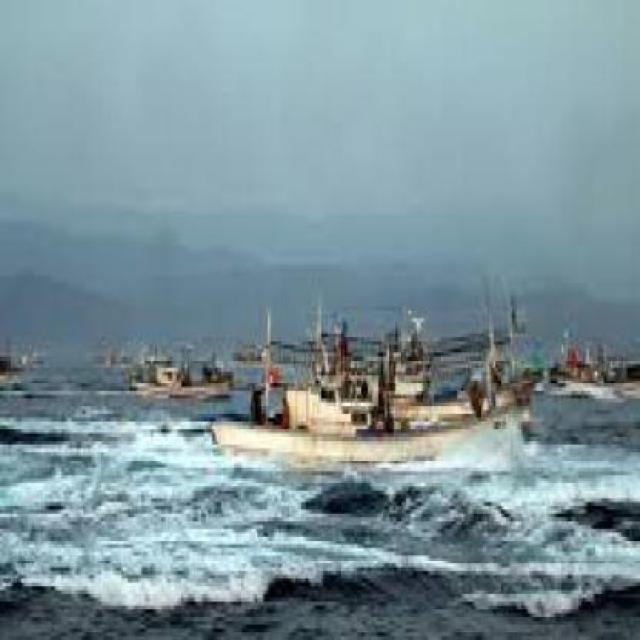fish-b: (207, 339, 552, 483), (130, 343, 241, 407)
